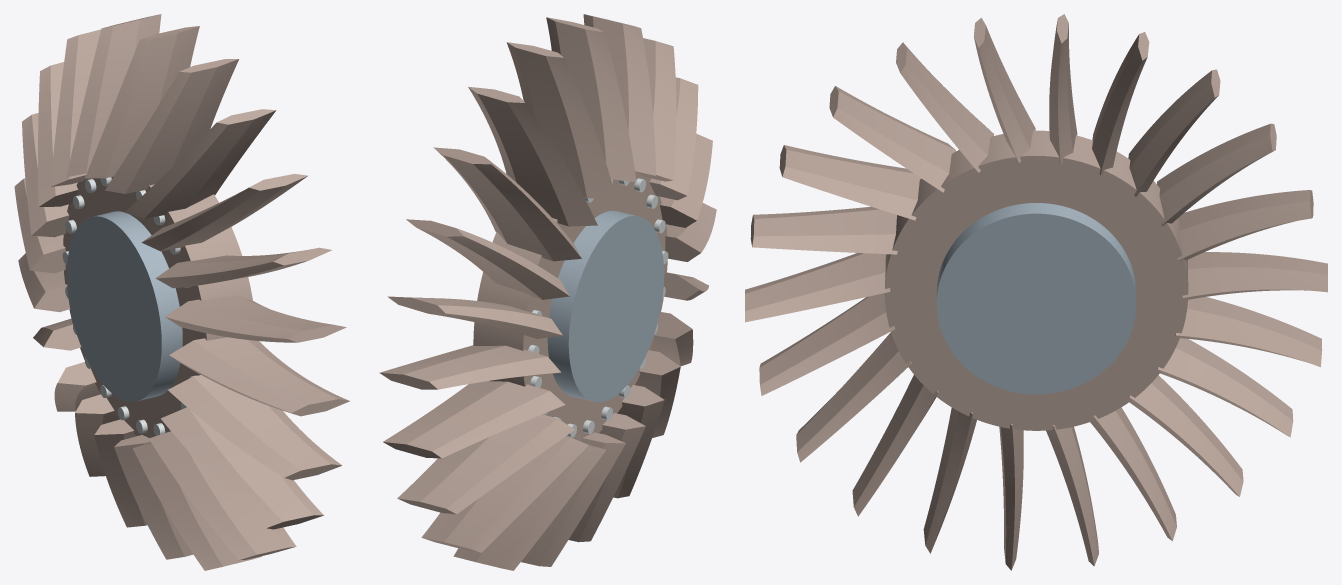
The model's file is turbine-wheel.glb.
The picture shows the model from 3 angles, left to right: view 1: azimuth 30°, elevation 25°; view 2: azimuth 150°, elevation 25°; view 3: azimuth 270°, elevation 25°; orthographic projection. The views are drawn at different scales.
Visible parts, largest first — view 1: turbine-wheel - heat, turbine-wheel - steel, turbine-wheel - fastener; view 2: turbine-wheel - heat, turbine-wheel - steel, turbine-wheel - fastener; view 3: turbine-wheel - heat, turbine-wheel - steel.
Part boxes in pixels (x1=…): turbine-wheel - heat: x1=14, y1=14, x2=349, y2=570; turbine-wheel - steel: x1=67, y1=211, x2=182, y2=401; turbine-wheel - fastener: x1=62, y1=177, x2=196, y2=435; turbine-wheel - heat: x1=379, y1=14, x2=716, y2=570; turbine-wheel - steel: x1=547, y1=210, x2=663, y2=402; turbine-wheel - fastener: x1=528, y1=178, x2=668, y2=437; turbine-wheel - heat: x1=745, y1=14, x2=1327, y2=570; turbine-wheel - steel: x1=936, y1=203, x2=1136, y2=394.
Bounding box in the file's own units: 0.376 × 1.61 × 1.61.
